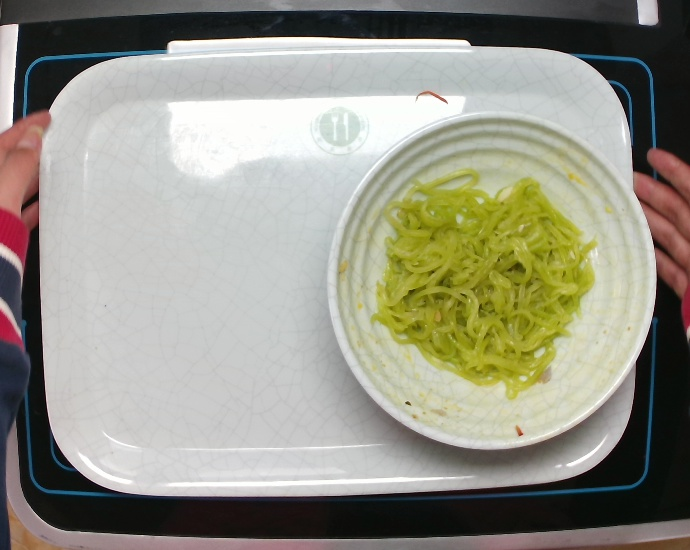JYsf-Da_Tang_Wan: (317, 114, 657, 451)
